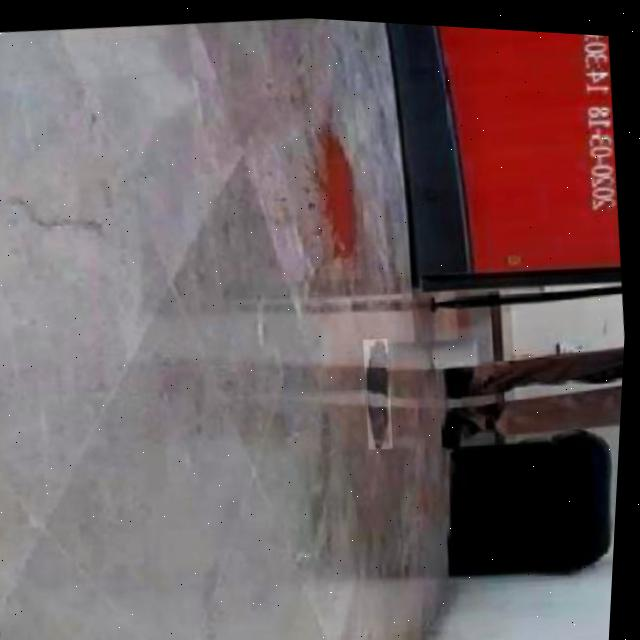spillage: (312, 118, 354, 254), (367, 334, 392, 443)
